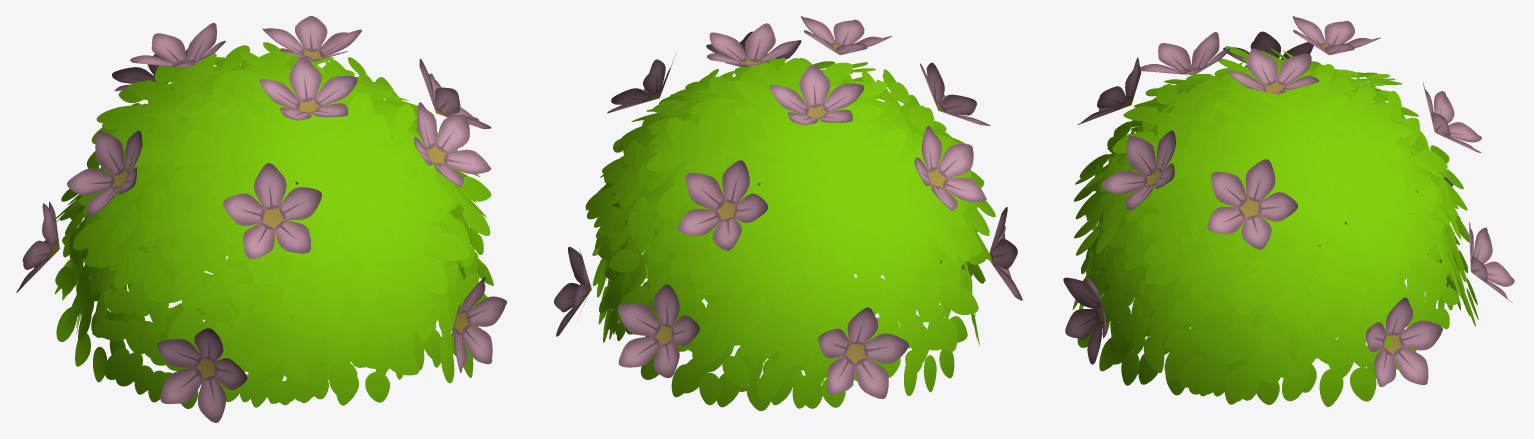
Rendered from bush_flowers.glb.
3 views of the same model, side by side, from view 1: azimuth 30°, elevation 25°; view 2: azimuth 150°, elevation 25°; view 3: azimuth 270°, elevation 25° (orthographic). The views are drawn at different scales.
Parts seen in each view (by area): view 1: Bush_Flowers; view 2: Bush_Flowers; view 3: Bush_Flowers.
Part boxes in pixels (bbox=[...]): Bush_Flowers: bbox=[16, 16, 506, 422]; Bush_Flowers: bbox=[554, 16, 1022, 410]; Bush_Flowers: bbox=[1063, 16, 1514, 406].
Bounding box in the file's own units: 1.09 × 0.7585 × 1.11.
Materials: 2 (2 with a texture image).
